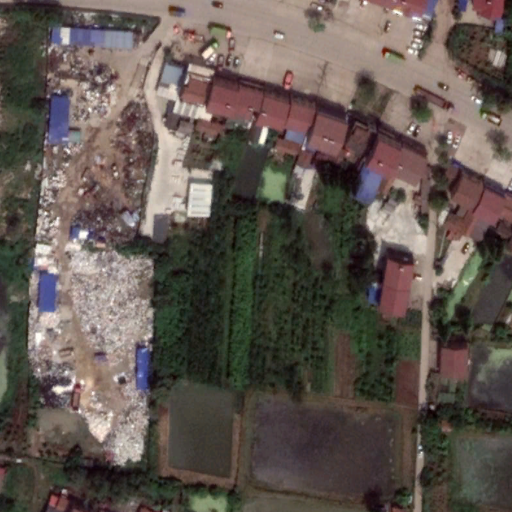msw: (24, 45, 155, 469)
